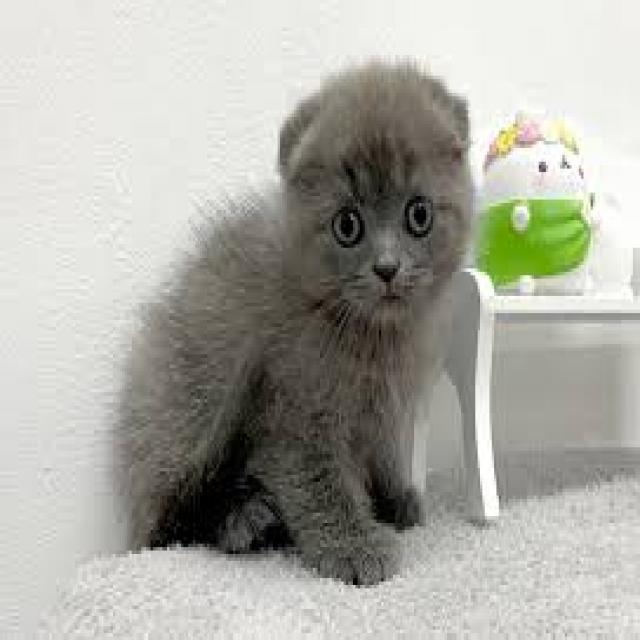cat-face: (243, 27, 492, 365)
